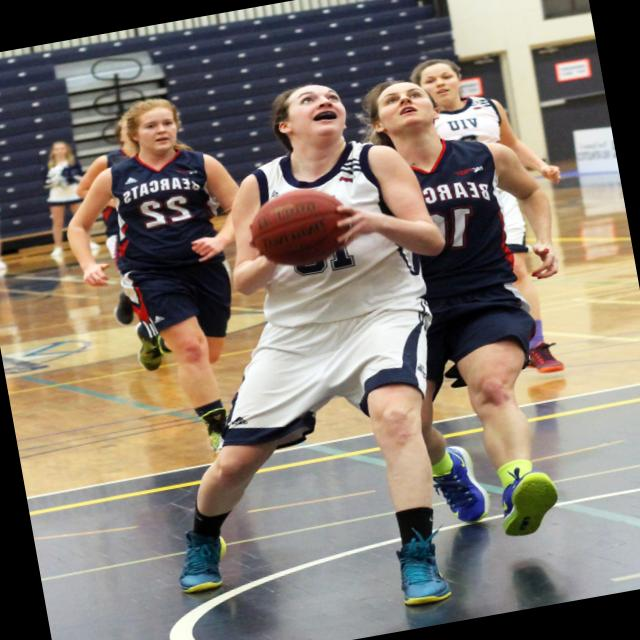Ball: (240, 182, 356, 274)
